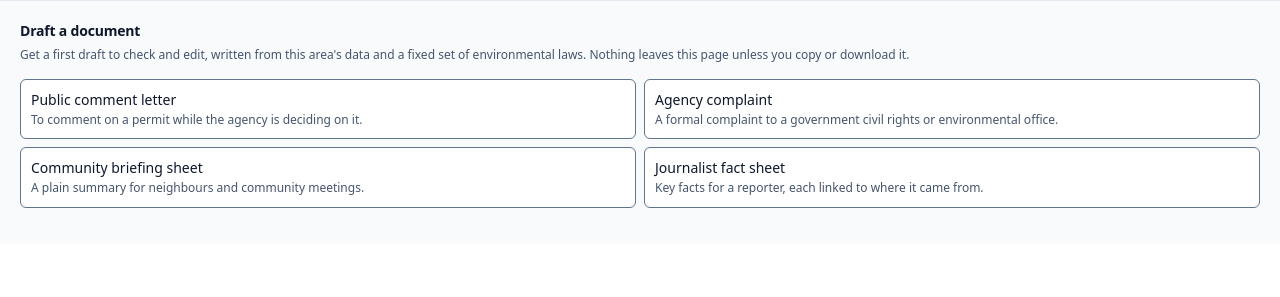
it: failures read as answers › explains an unreachable API without a stack trace
The width and height of the screenshot is (1280, 297).
What coordinates should you click on to do the following:
click the text "Public comment letter"
I would click on:
 (104, 99)
Its box is [31, 90, 176, 108].
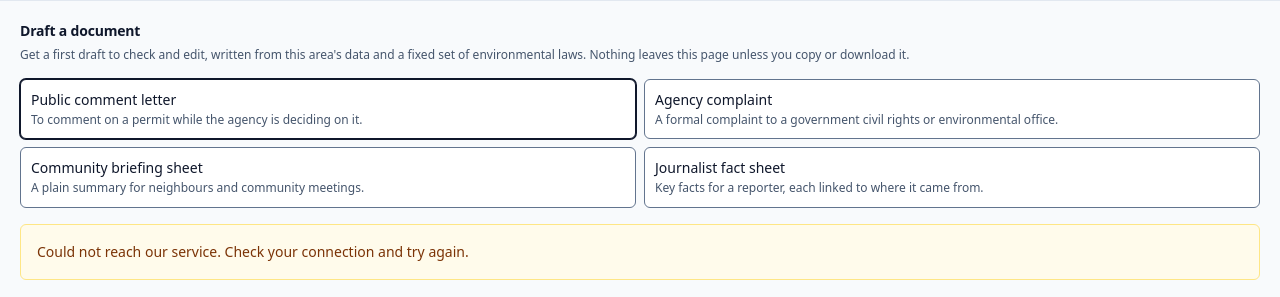
Now the text "Could not reach our service" is shown, box [37, 242, 469, 260]
